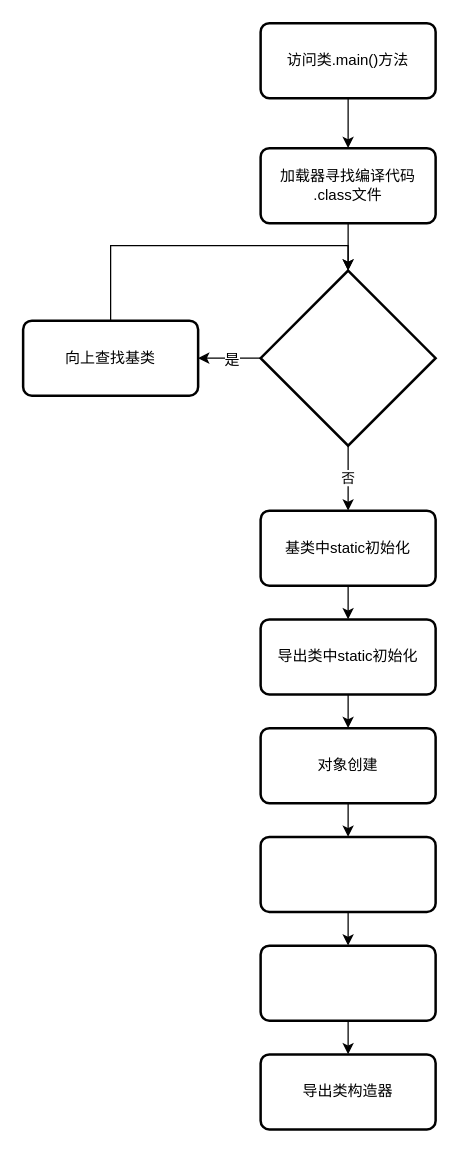
Image size: 458x1151. Some labels were removed from this diagram. The shapes that lost their labels are listed below. From the top down, each one's centre as x and y in pixels, then its label:
the point at 347,357: 编译器是否发现基类
the point at 347,873: 基本类型设置为默认值 对象类型设置为null
the point at 347,982: 基类构造器
